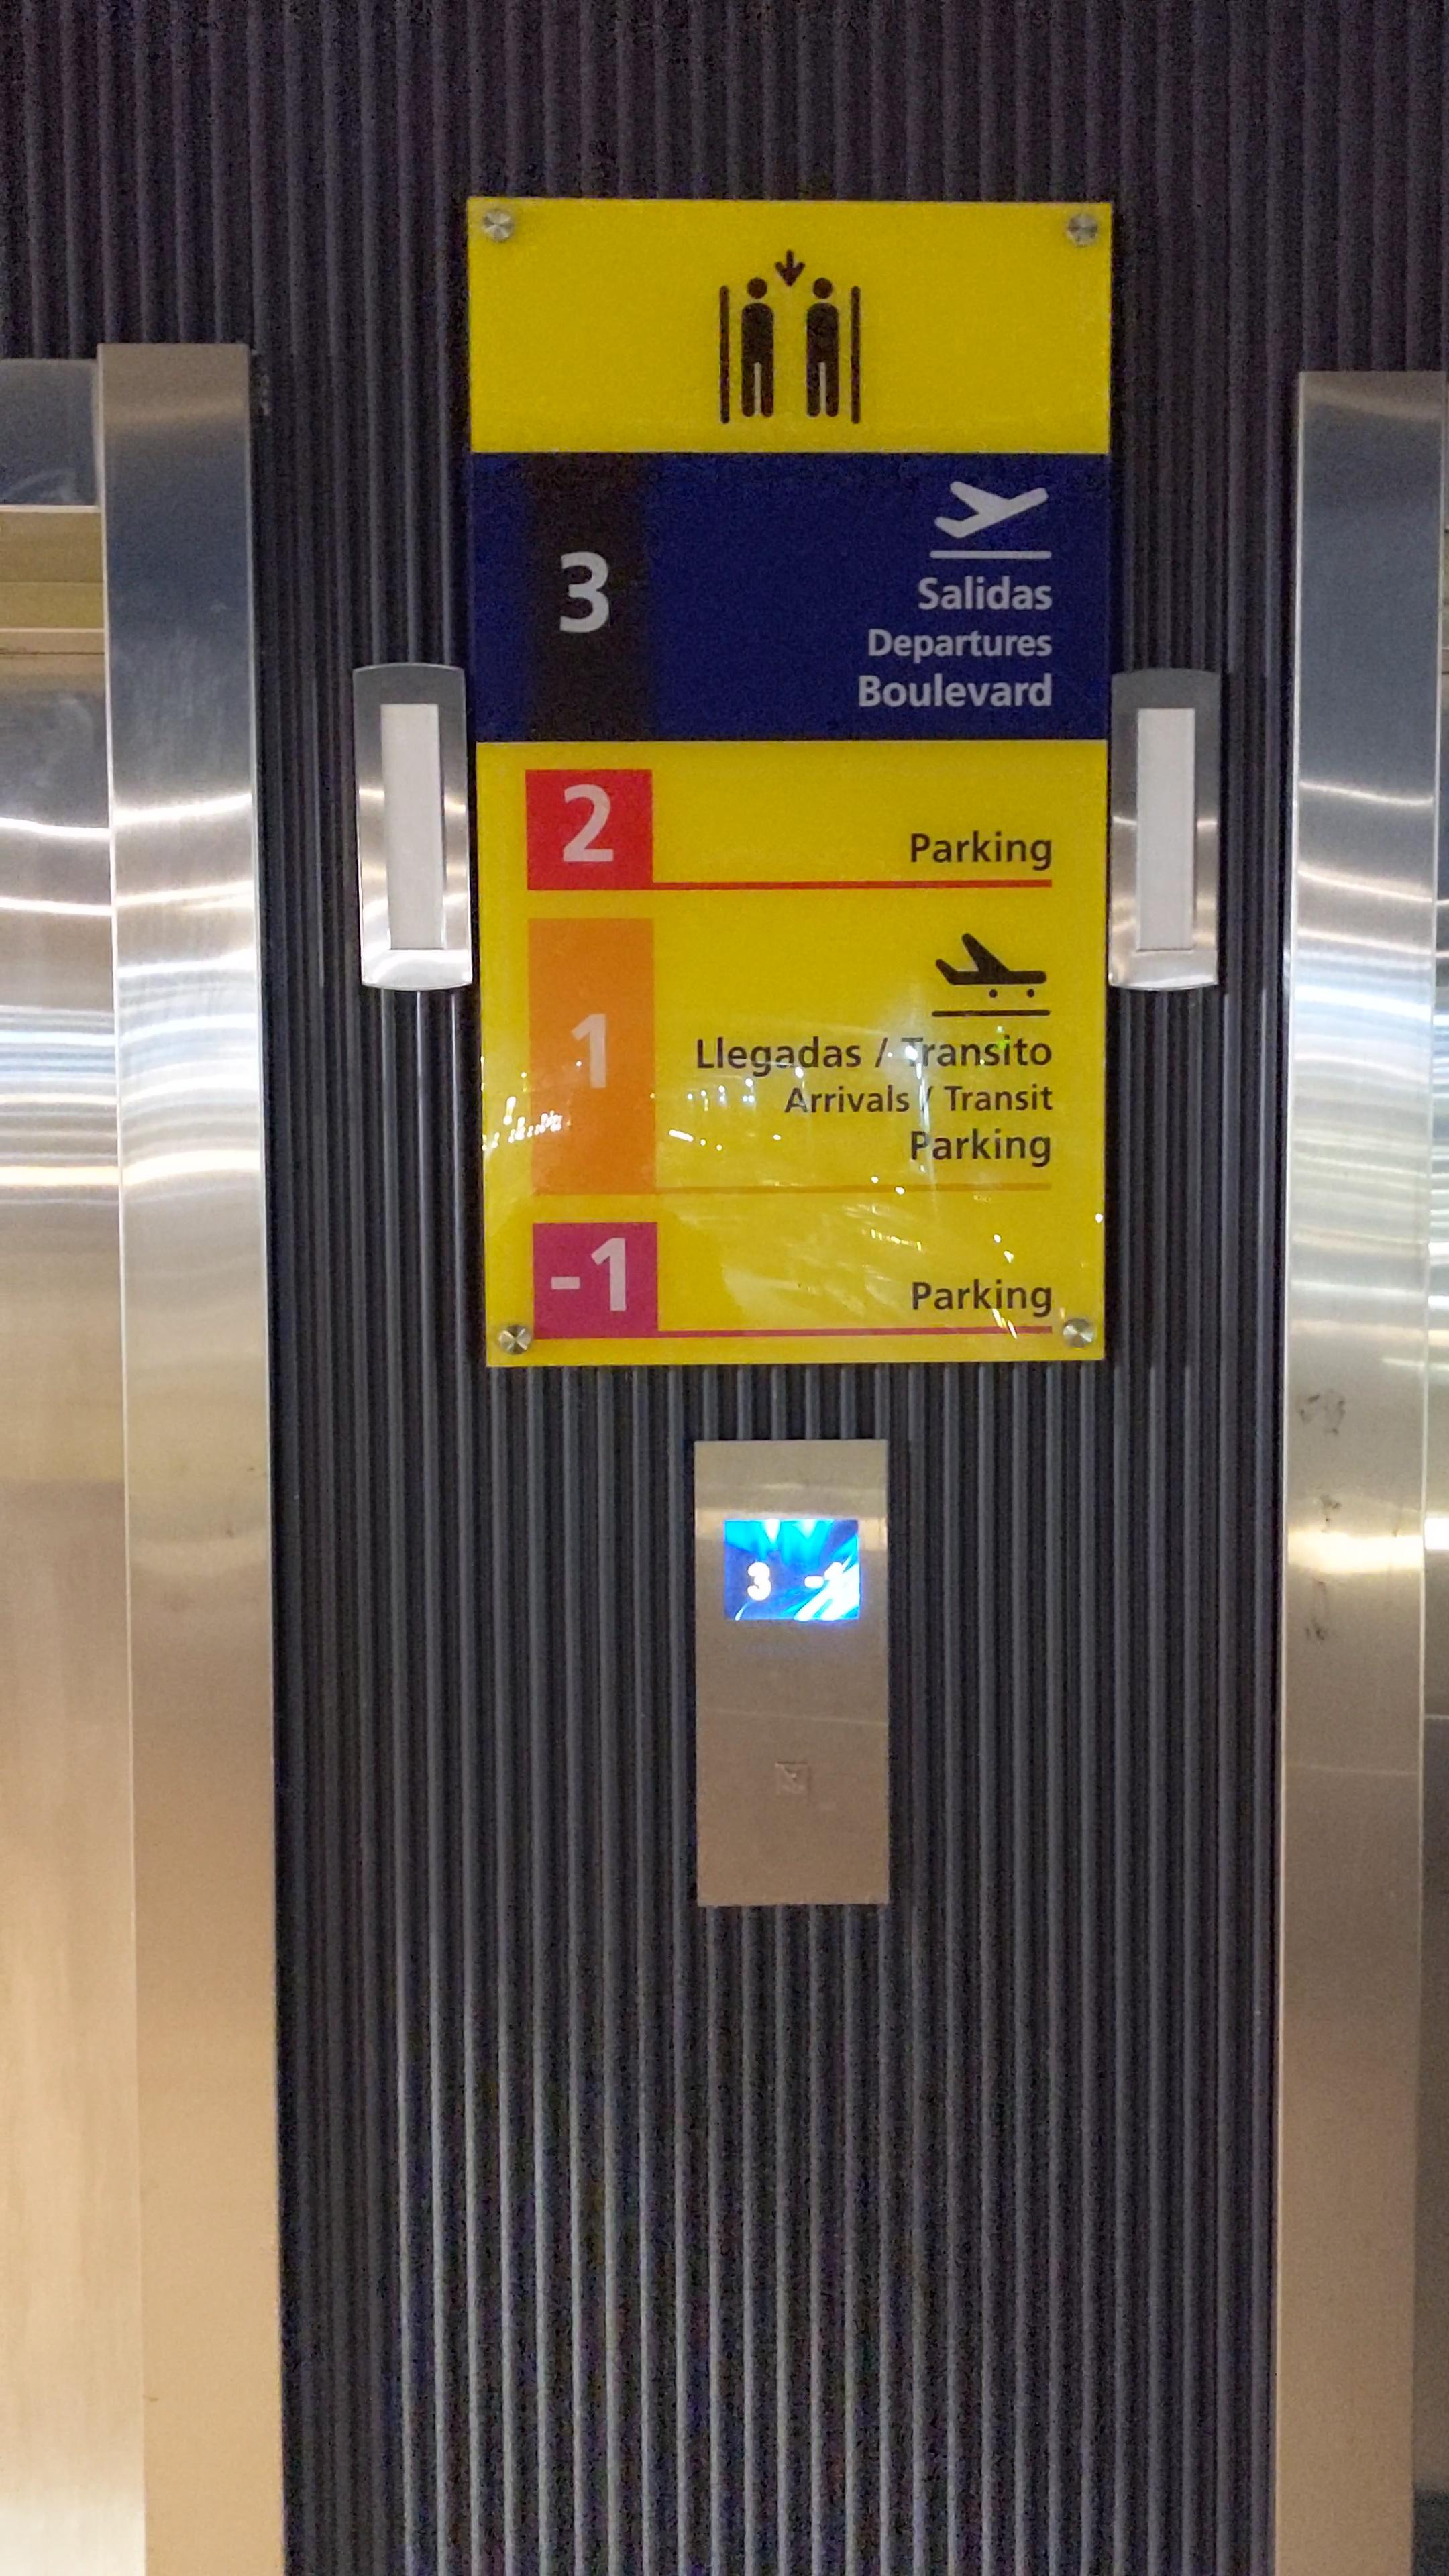airplane symbol: (927, 922, 1060, 1003), (931, 469, 1060, 540)
